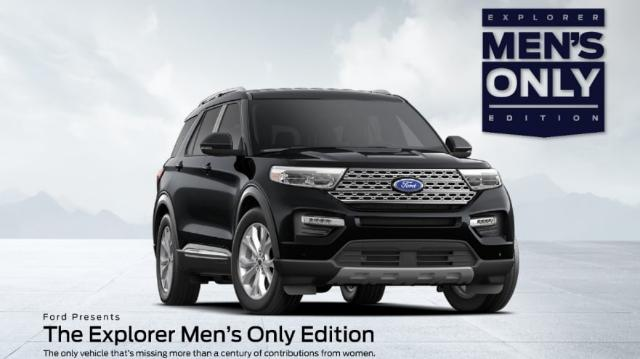ford: (152, 86, 520, 315)
